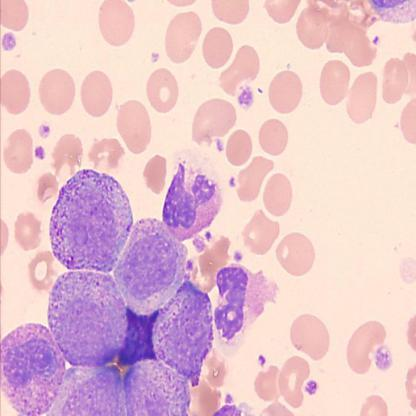Promyelocyte: (47, 167, 136, 274), (45, 271, 130, 368)
